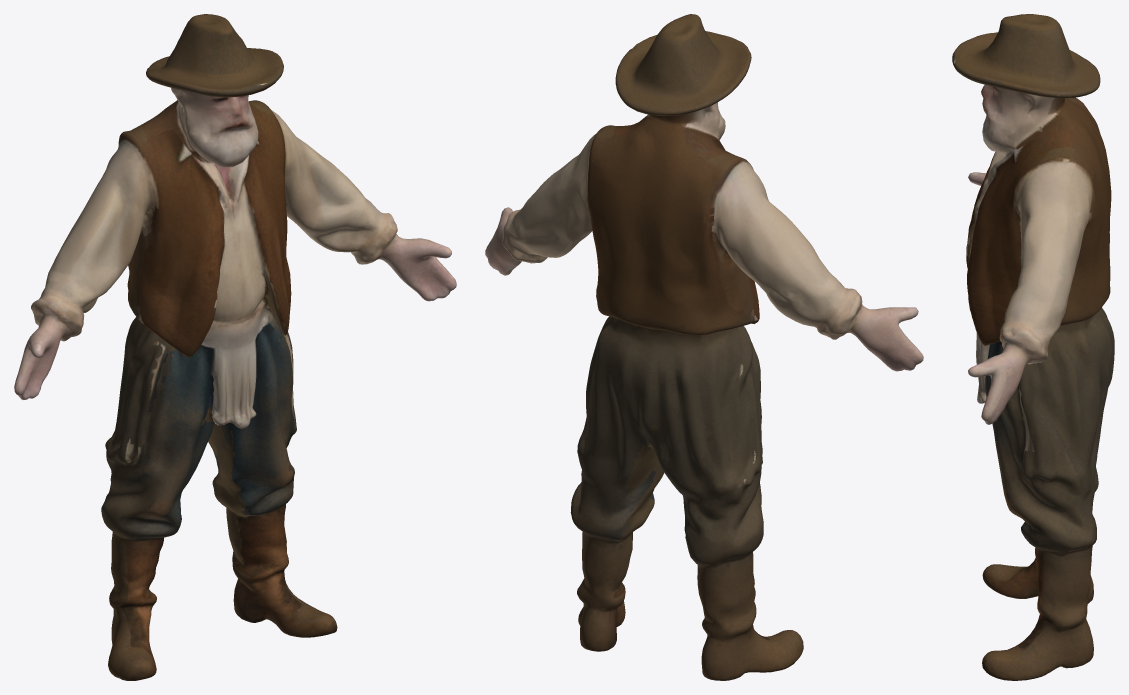
Rendered from viejo_rig.glb.
The picture shows the model from 3 angles, left to right: view 1: azimuth 30°, elevation 25°; view 2: azimuth 150°, elevation 25°; view 3: azimuth 270°, elevation 25°; orthographic projection. The views are drawn at different scales.
Parts seen in each view (by area): view 1: temp_mesh.ply; view 2: temp_mesh.ply; view 3: temp_mesh.ply.
Boxes of the visible parts, <box> form: temp_mesh.ply: <box>14,14,456,680</box>; temp_mesh.ply: <box>485,14,923,680</box>; temp_mesh.ply: <box>952,14,1114,680</box>.
Size of the model in its own units: 1.25 by 1.7 by 0.4089.
1 material, 1 textured.
